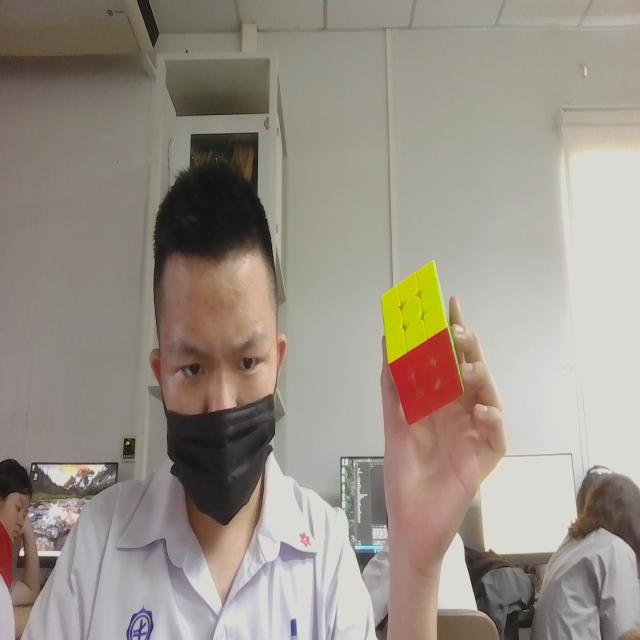rubik: (368, 253, 480, 421)
